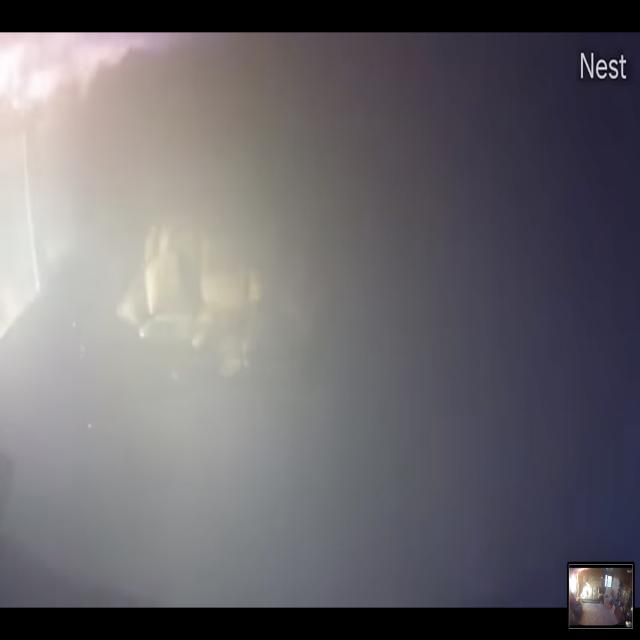Atencao: (3, 34, 635, 608)
Fogo: (6, 36, 94, 178)
